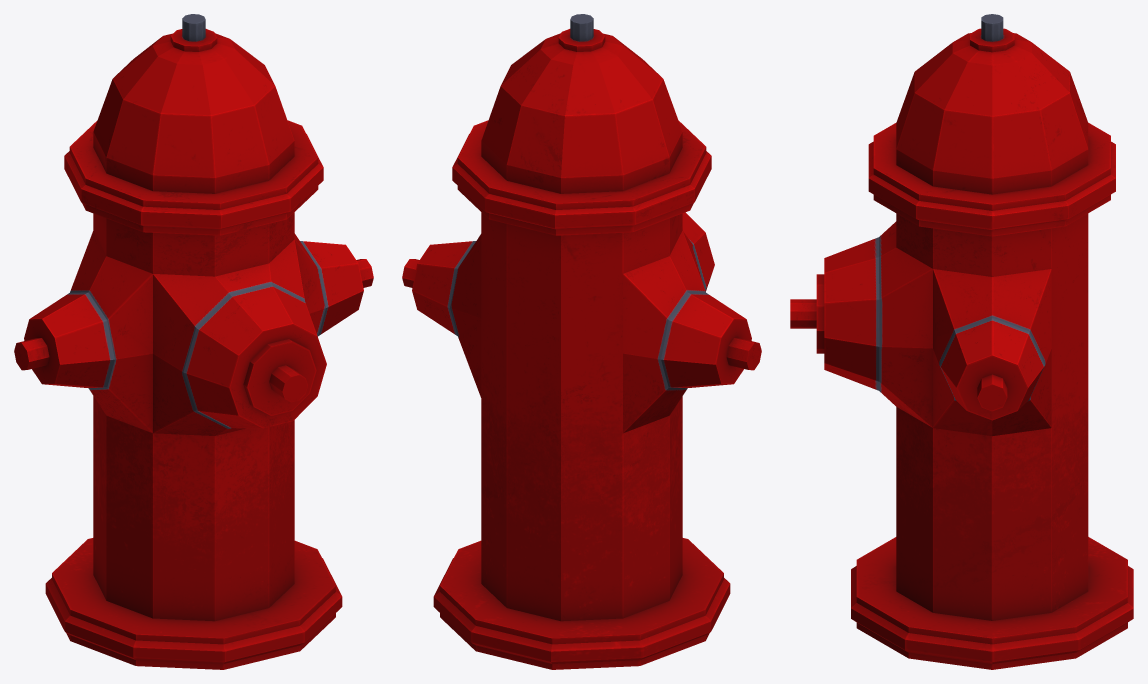
The model's file is 3bdc30e0-effe-4c5e-9d0b-796743193979.glb.
3 views of the same model, side by side, from view 1: azimuth 30°, elevation 25°; view 2: azimuth 150°, elevation 25°; view 3: azimuth 270°, elevation 25° (orthographic).
Visible parts, largest first — view 1: Hydrant_mesh; view 2: Hydrant_mesh; view 3: Hydrant_mesh.
Boxes of the visible parts, box(x1,y1,x2,y2) form: Hydrant_mesh: box(14, 14, 373, 669); Hydrant_mesh: box(402, 14, 761, 669); Hydrant_mesh: box(790, 14, 1133, 669).
Bounding box in the file's own units: 2.94 × 4.83 × 2.54.
Materials: 1 (1 with a texture image).
